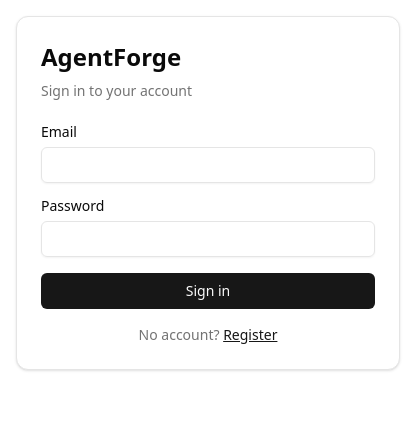
Scenario: LoginPage › shows the backend error when login fails
The width and height of the screenshot is (417, 424).
Type "test@example.com" into the field labelled "Email" at [208, 165], box top-left (41, 147), bottom-right (375, 183)
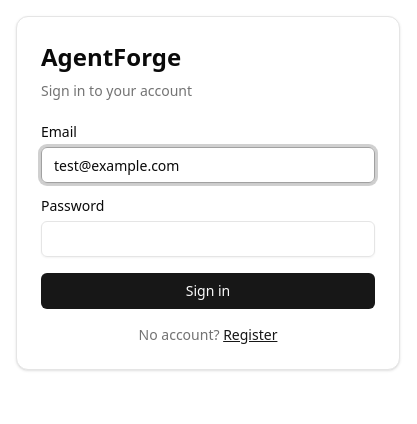
Type "wrong-password" into the password field labelled "Password" at [208, 239], box top-left (41, 221), bottom-right (375, 257)
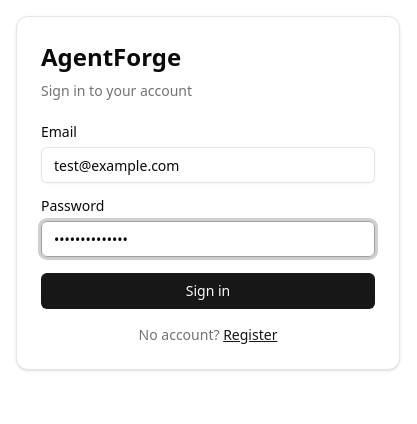
Click the button "Sign in" at [208, 291], box top-left (41, 273), bottom-right (375, 309)
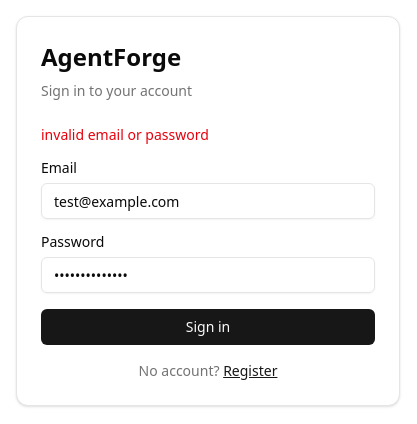
Result: the text "invalid email or password" is shown at top-left (41, 125), bottom-right (209, 144)
